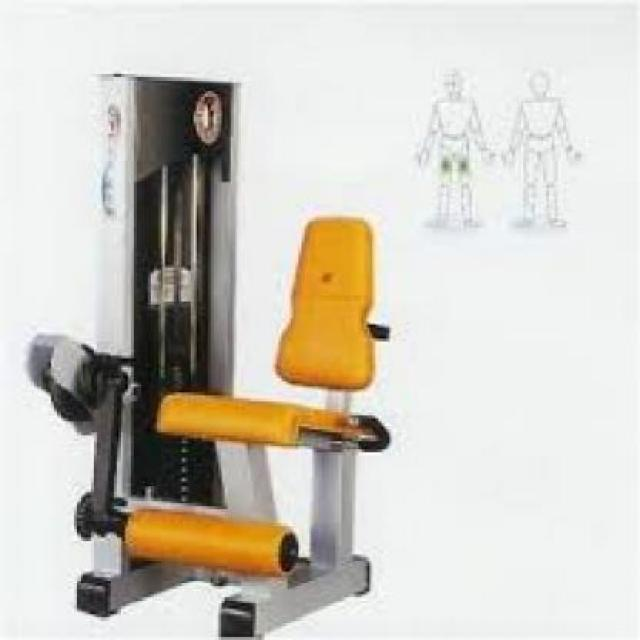leg extension: (19, 55, 406, 640)
